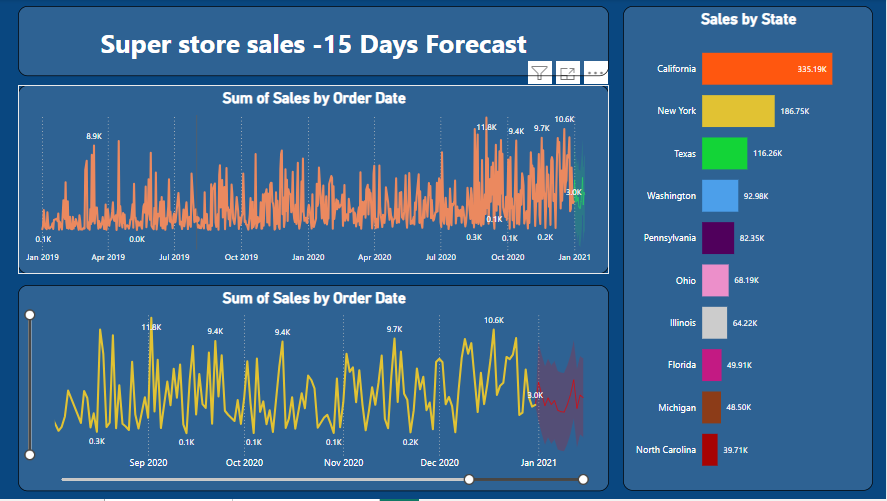

What the dashboard file says about the page in this screenshot:
{"tool":"powerbi","page":{"name":"forecast_dashboard","canvas":[1280,720],"ordinal":1},"visuals":[{"type":"lineChart","fields":{"Y":["Sum(SuperStore_Sales_Dataset.Sales)"],"Category":["SuperStore_Sales_Dataset.Order Date"]},"box":[28.8,123.8,851,272.2],"z":0},{"type":"lineChart","fields":{"Y":["Sum(SuperStore_Sales_Dataset.Sales)"],"Category":["SuperStore_Sales_Dataset.Order Date"]},"box":[28.8,411.8,851,296.6],"z":1000},{"type":"clusteredBarChart","title":"Sales by State","fields":{"Category":["SuperStore_Sales_Dataset.State"],"Y":["Sum(SuperStore_Sales_Dataset.Sales)"]},"box":[900,10.1,360,698.4],"z":2000},{"type":"textbox","box":[28.8,10.1,851,100.8],"z":3000}]}

Visuals, with their boxes in screenshot pixels (x1, y1, x2, y2), scaled from the page's 1280x720 canvas onto the 887x501 screenshot:
lineChart - Sum(SuperStore_Sales_Dataset.Sales) x SuperStore_Sales_Dataset.Order Date: <region>20, 86, 610, 276</region>
lineChart - Sum(SuperStore_Sales_Dataset.Sales) x SuperStore_Sales_Dataset.Order Date: <region>20, 287, 610, 493</region>
"Sales by State" clusteredBarChart: <region>624, 7, 873, 493</region>
textbox: <region>20, 7, 610, 77</region>
